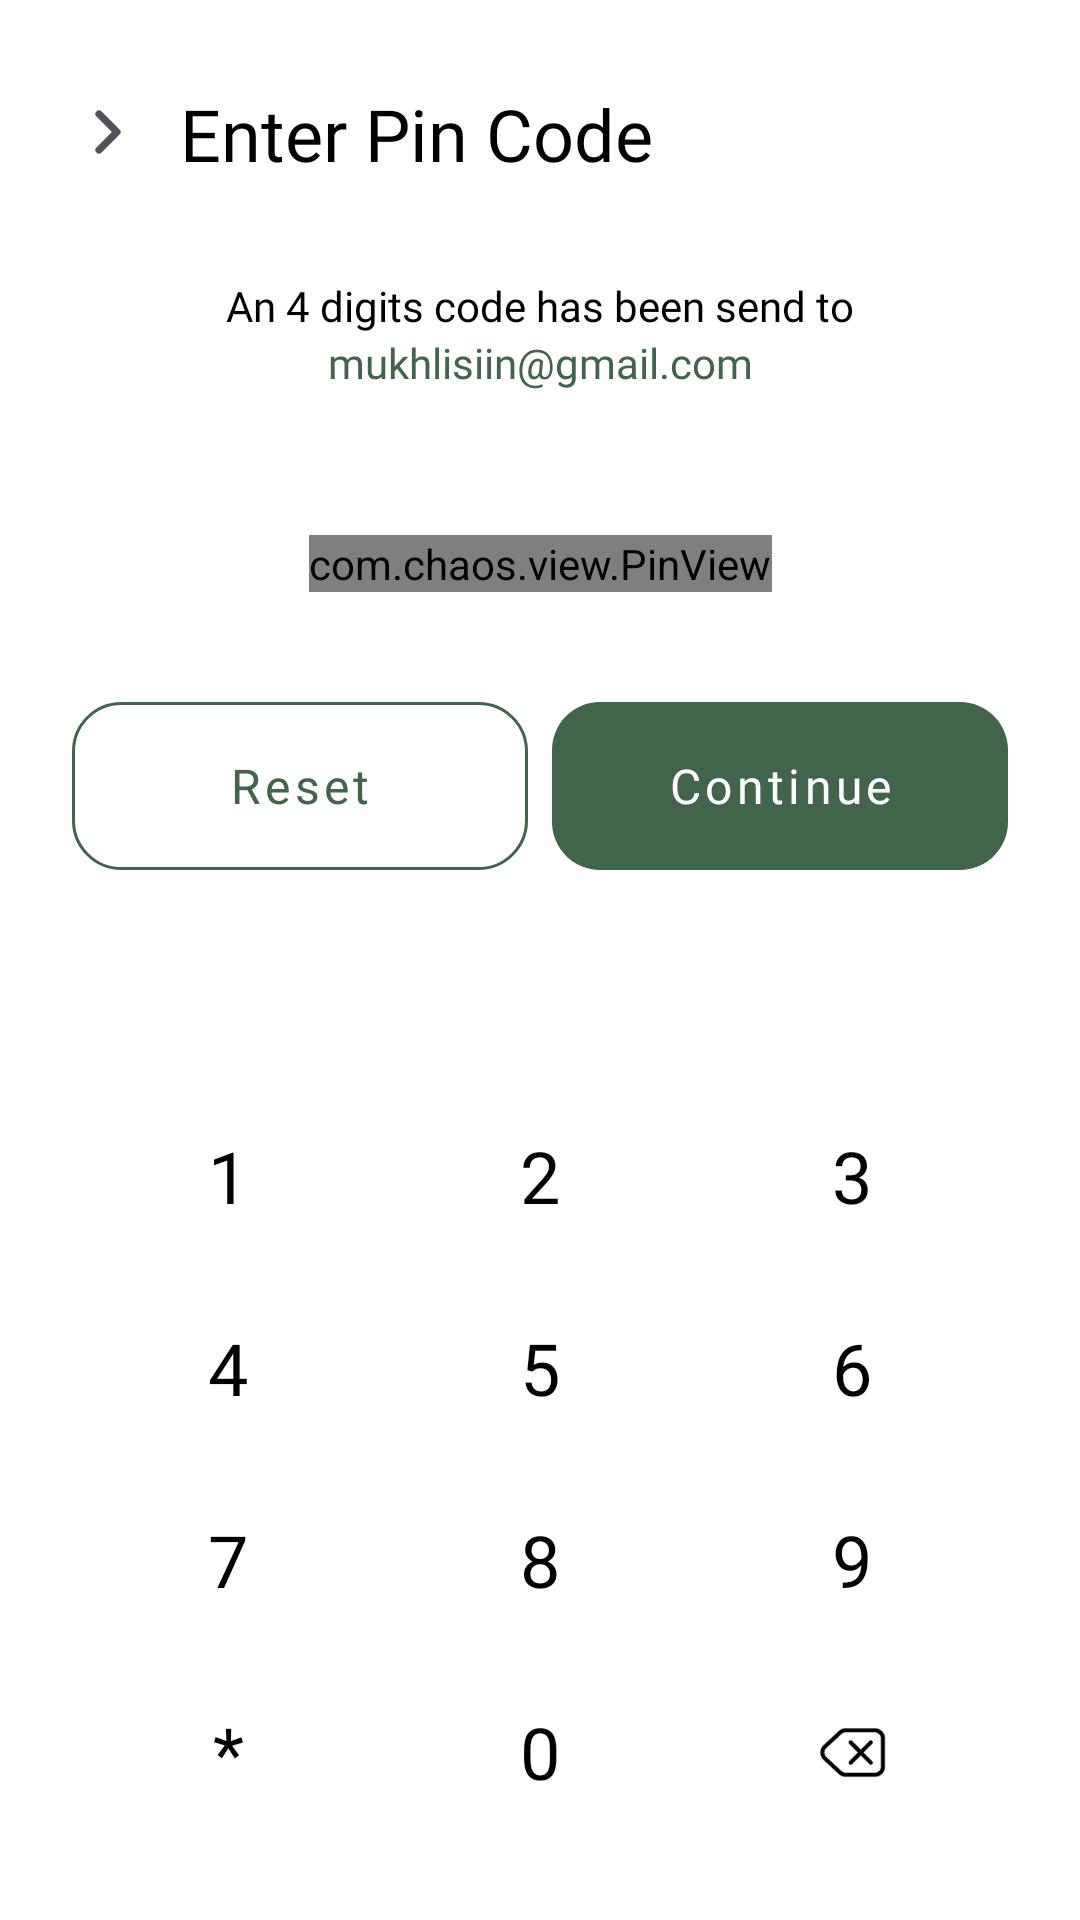

Locate icon controls on the screen. Image size 1080x1920, boxes as bbox=[x1, y1, x2, y2].
Backspace: bbox=[820, 1728, 886, 1777]
